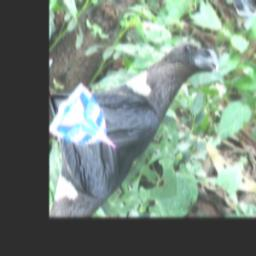Crow: (68, 0, 226, 172)
